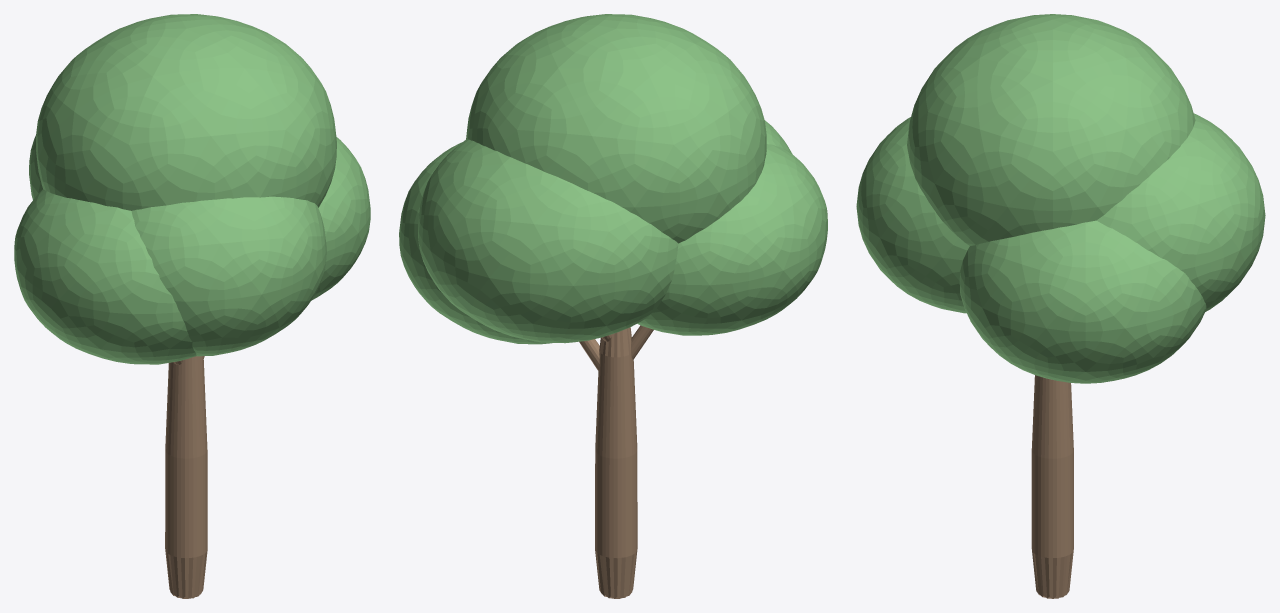
Rendered from arvore.glb.
The picture shows the model from 3 angles, left to right: view 1: azimuth 30°, elevation 25°; view 2: azimuth 150°, elevation 25°; view 3: azimuth 270°, elevation 25°; orthographic projection.
Parts seen in each view (by area): view 1: Arvore; view 2: Arvore; view 3: Arvore.
Boxes of the visible parts, <box> form: Arvore: <box>14,14,370,598</box>; Arvore: <box>399,14,827,598</box>; Arvore: <box>856,14,1265,598</box>.
Bounding box in the file's own units: 3.14 × 4.78 × 3.11.
